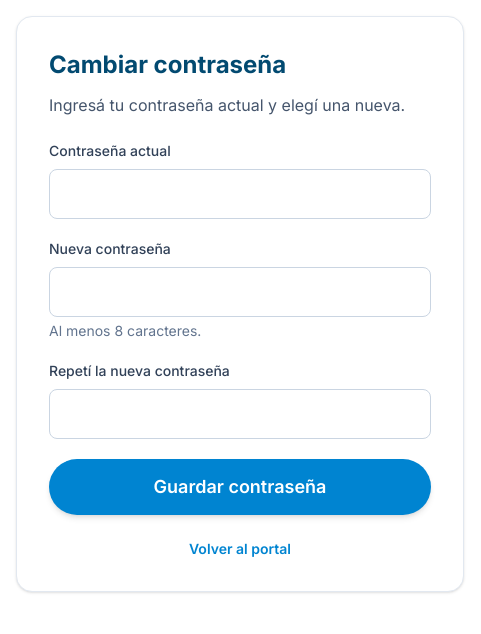
Test: ChangePasswordPage › muestra el error del backend si la clave actual es incorrecta
Type "Password123" into the password field labelled "Contraseña actual" at coordinates (240, 194), box [49,169,431,219]
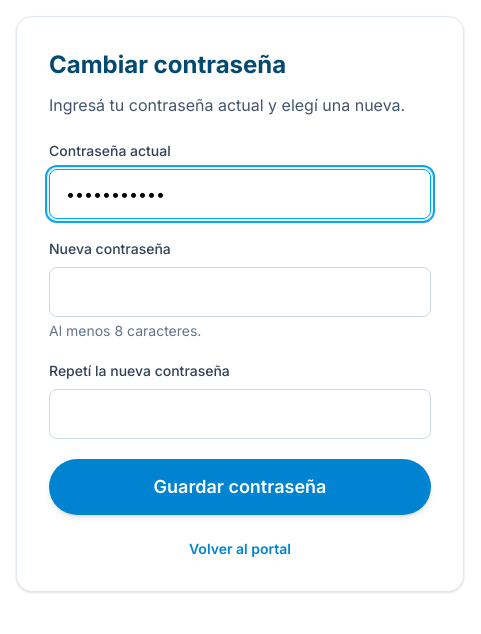
Type "NuevaClave123" into the password field labelled "Nueva contraseña" at coordinates (240, 292), box [49,267,431,317]
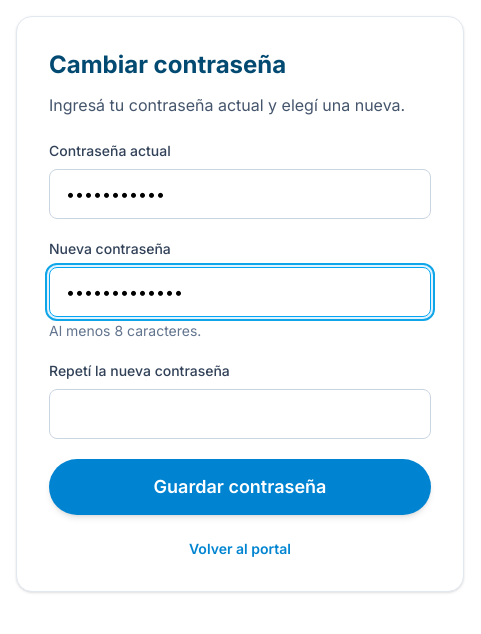
Type "NuevaClave123" into the password field labelled "Repetí la nueva contraseña" at coordinates (240, 414), box [49,389,431,439]
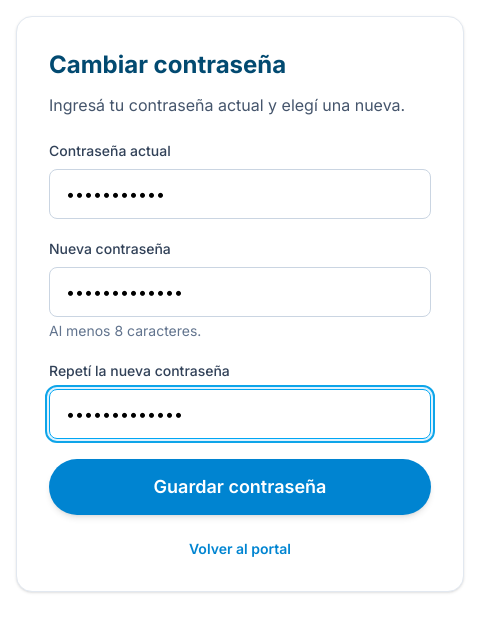
Click the button "Guardar contraseña" at coordinates (240, 487), box [49,459,431,515]
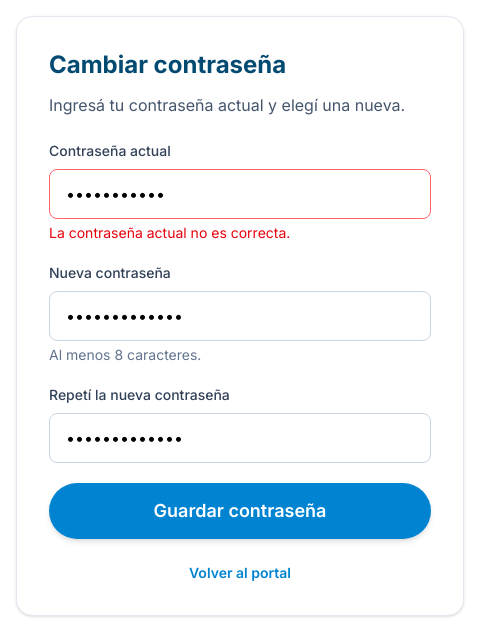
Expected: the text "La contraseña actual no es correcta." is shown, [49,224,290,241]
